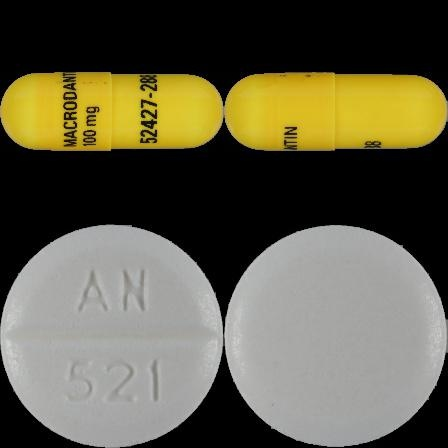12634-415: (0, 0, 224, 224)
